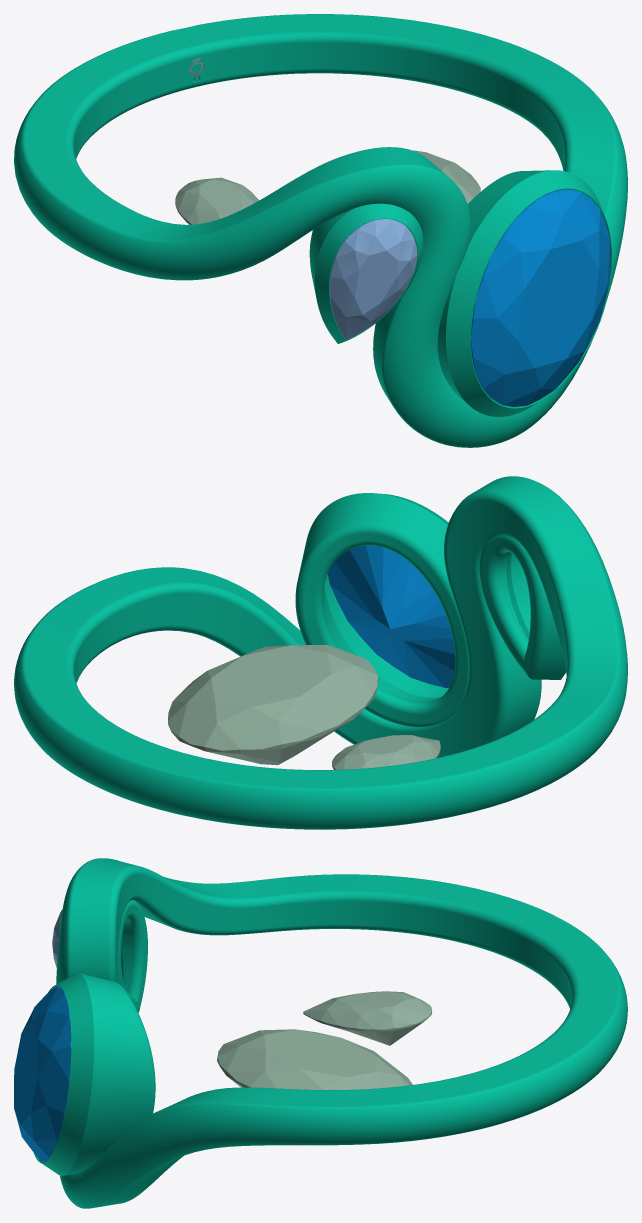
The picture shows the model from 3 angles, top to bottom: view 1: azimuth 30°, elevation 25°; view 2: azimuth 150°, elevation 25°; view 3: azimuth 270°, elevation 25°; orthographic projection. The views are drawn at different scales.
Visible parts, largest first — view 1: The Ripple Ring-LS0027-Sleeping.3dm, Diamond_Oval (×2), Bezel (×2), Diamond_Pear (×2); view 2: The Ripple Ring-LS0027-Sleeping.3dm, Diamond_Oval (×2), Bezel (×2), Diamond_Pear; view 3: The Ripple Ring-LS0027-Sleeping.3dm, Bezel (×2), Diamond_Oval (×2), Diamond_Pear.
Boxes of the visible parts, bbox=[...] form: The Ripple Ring-LS0027-Sleeping.3dm: bbox=[14, 14, 627, 447]; Diamond_Oval (×2): bbox=[412, 150, 610, 406]; Bezel (×2): bbox=[309, 170, 612, 416]; Diamond_Pear (×2): bbox=[175, 177, 417, 340]; The Ripple Ring-LS0027-Sleeping.3dm: bbox=[14, 476, 627, 829]; Diamond_Oval (×2): bbox=[168, 545, 455, 765]; Bezel (×2): bbox=[295, 493, 565, 726]; Diamond_Pear: bbox=[332, 735, 440, 769]; The Ripple Ring-LS0027-Sleeping.3dm: bbox=[56, 858, 627, 1208]; Bezel (×2): bbox=[34, 900, 155, 1176]; Diamond_Oval (×2): bbox=[14, 986, 412, 1161]; Diamond_Pear: bbox=[303, 991, 432, 1045].
Size of the model in its own units: 2.55 by 1.38 by 2.76.
